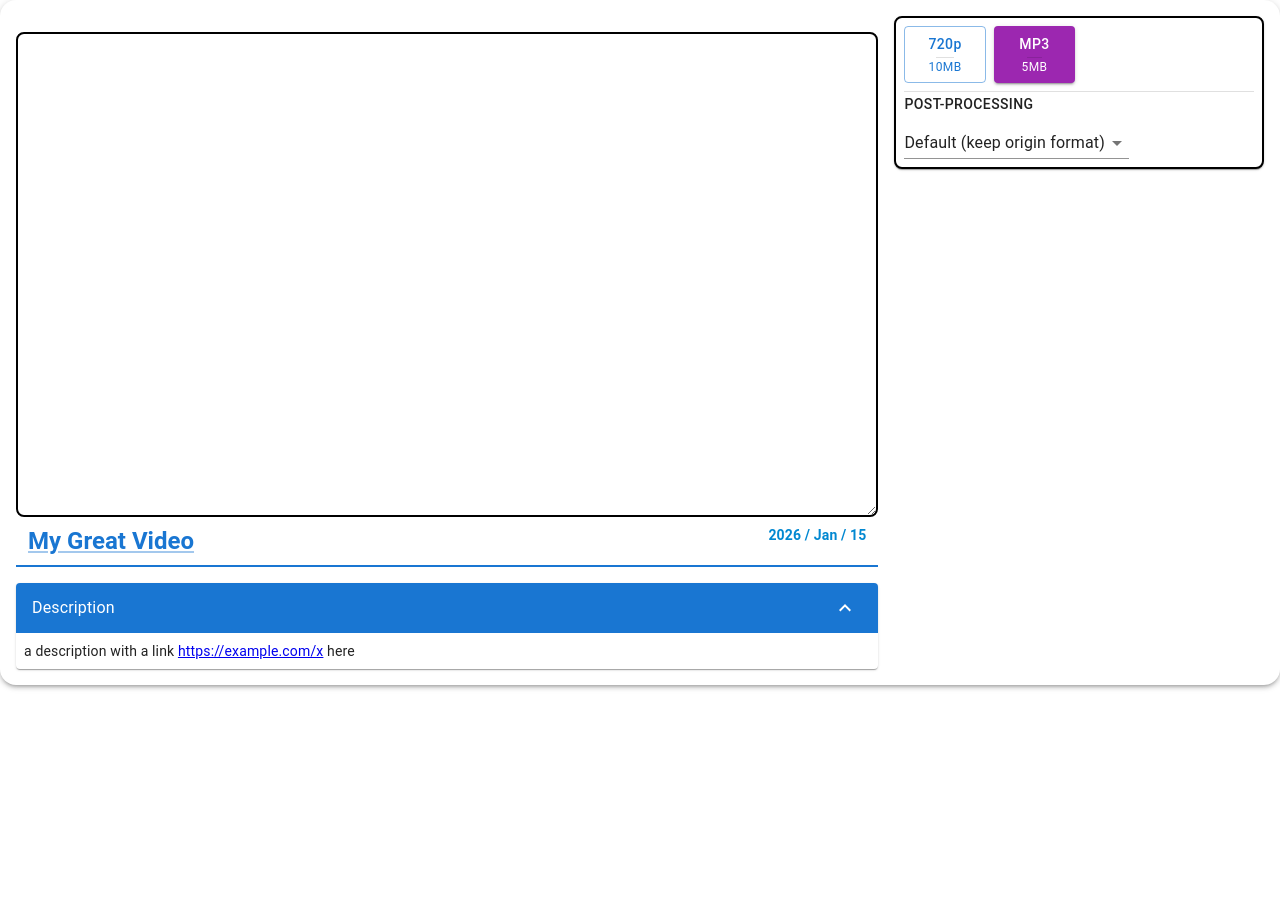
Test: VideoDetailCard › starts a download directly when the save location has no existing file
Click the button "720p 10Mb": click(945, 55) [904,26,986,83]
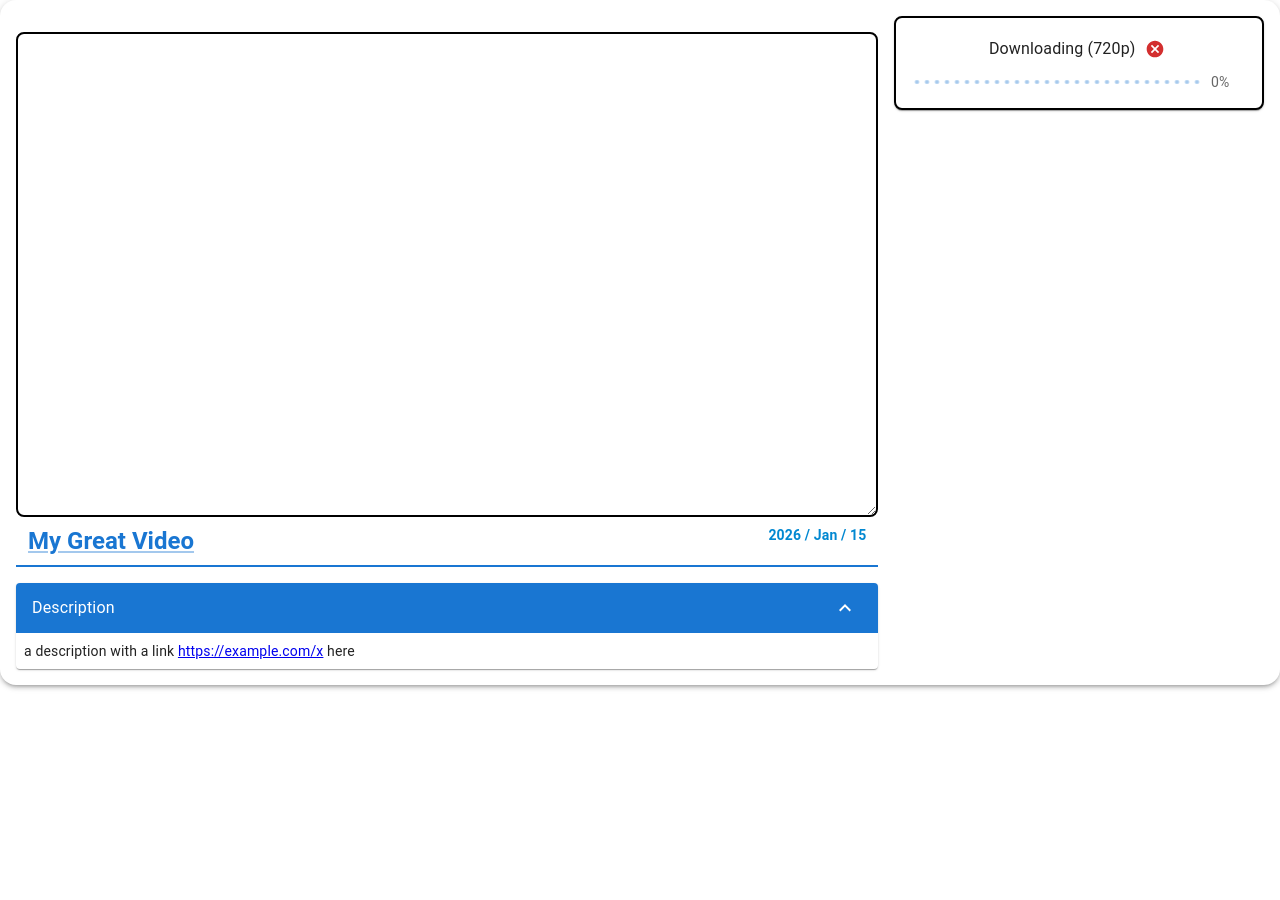
Check: the heading "Downloading (720p)" is shown, box [989,35,1136,63]
